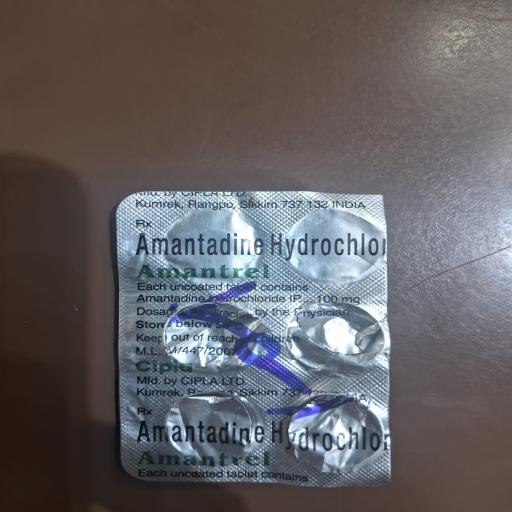Amantrel: (130, 404, 390, 482), (124, 219, 375, 297)
medicine: (115, 190, 395, 489)
